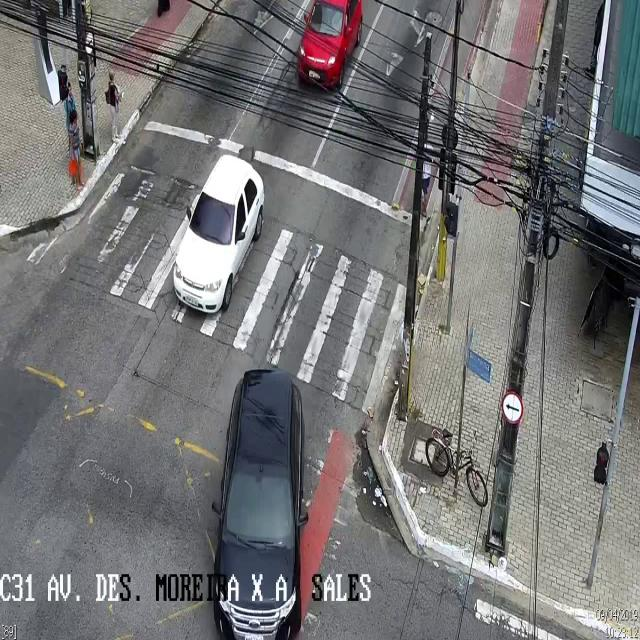Car: (212, 369, 310, 639), (173, 153, 263, 314), (299, 0, 362, 88)
